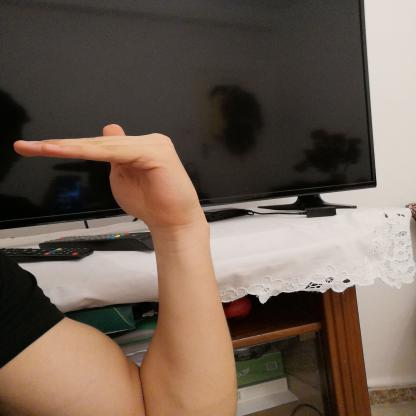KHAA: (6, 113, 217, 241)
